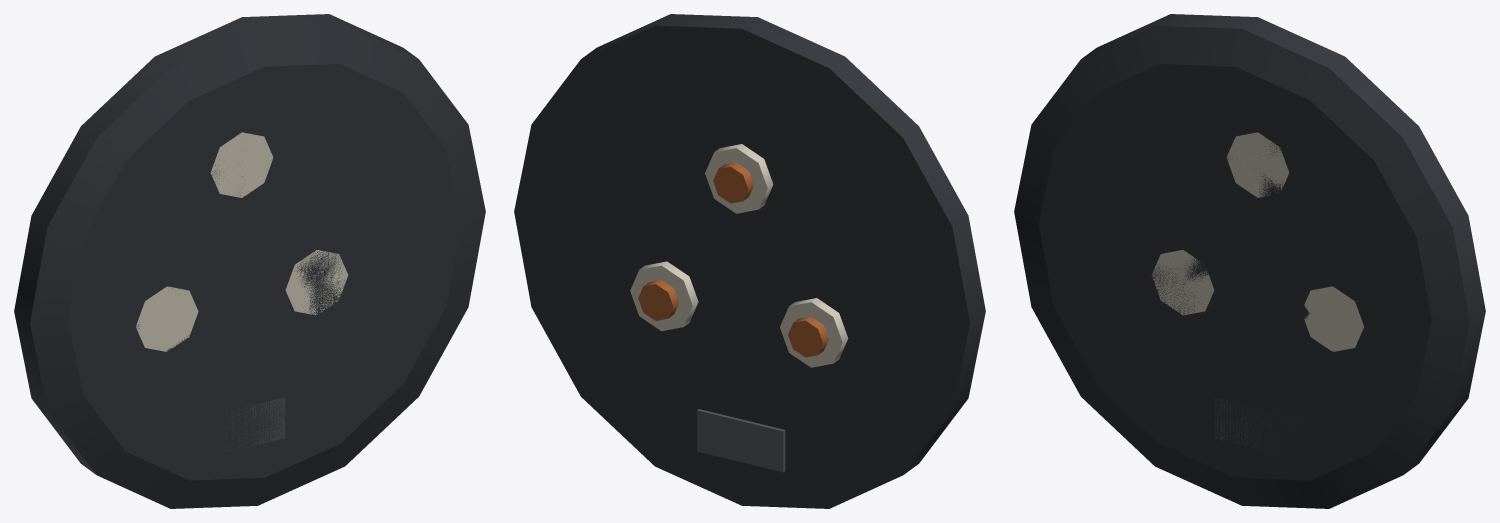
Rendered from s200_flange.obj.
The picture shows the model from 3 angles, left to right: view 1: azimuth 30°, elevation 25°; view 2: azimuth 150°, elevation 25°; view 3: azimuth 330°, elevation 25°; orthographic projection.
Visible parts, largest first — view 1: s200_flange; view 2: s200_flange; view 3: s200_flange.
Part boxes in pixels (x1,y1,x2,y2): s200_flange: (14, 14, 485, 508); s200_flange: (514, 14, 985, 508); s200_flange: (1014, 14, 1485, 508).
Bounding box in the file's own units: 1.16 × 1.16 × 0.15.
